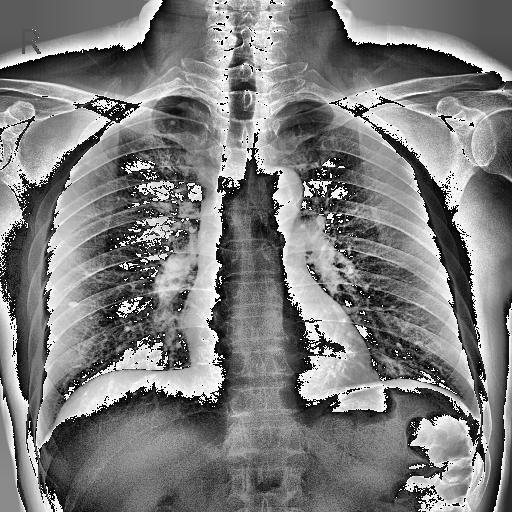0- Aortic enlargement: (246, 165, 304, 220), (247, 172, 302, 220)
11- Pleural thickening: (105, 100, 145, 128)
7- Lung Opacity: (54, 360, 154, 429)
8- Nodule-Mass: (66, 300, 78, 309), (68, 300, 79, 308), (168, 120, 176, 126)
9- Other lesion: (54, 360, 154, 429)
